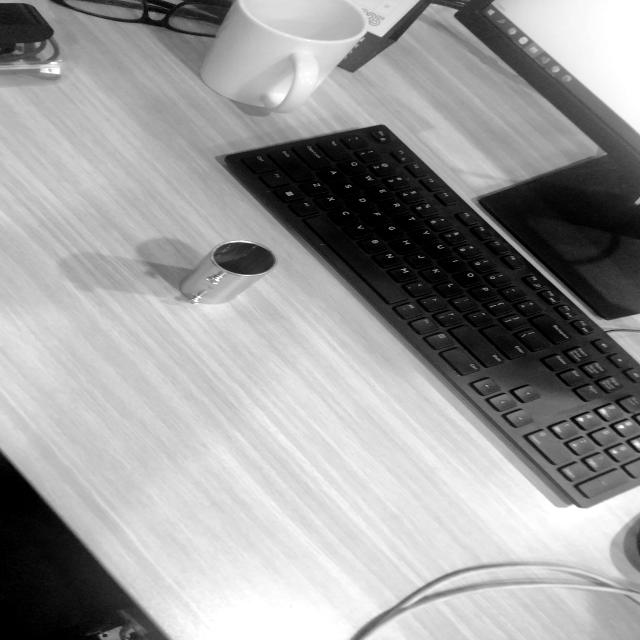Co_Lon: (170, 221, 281, 322)
